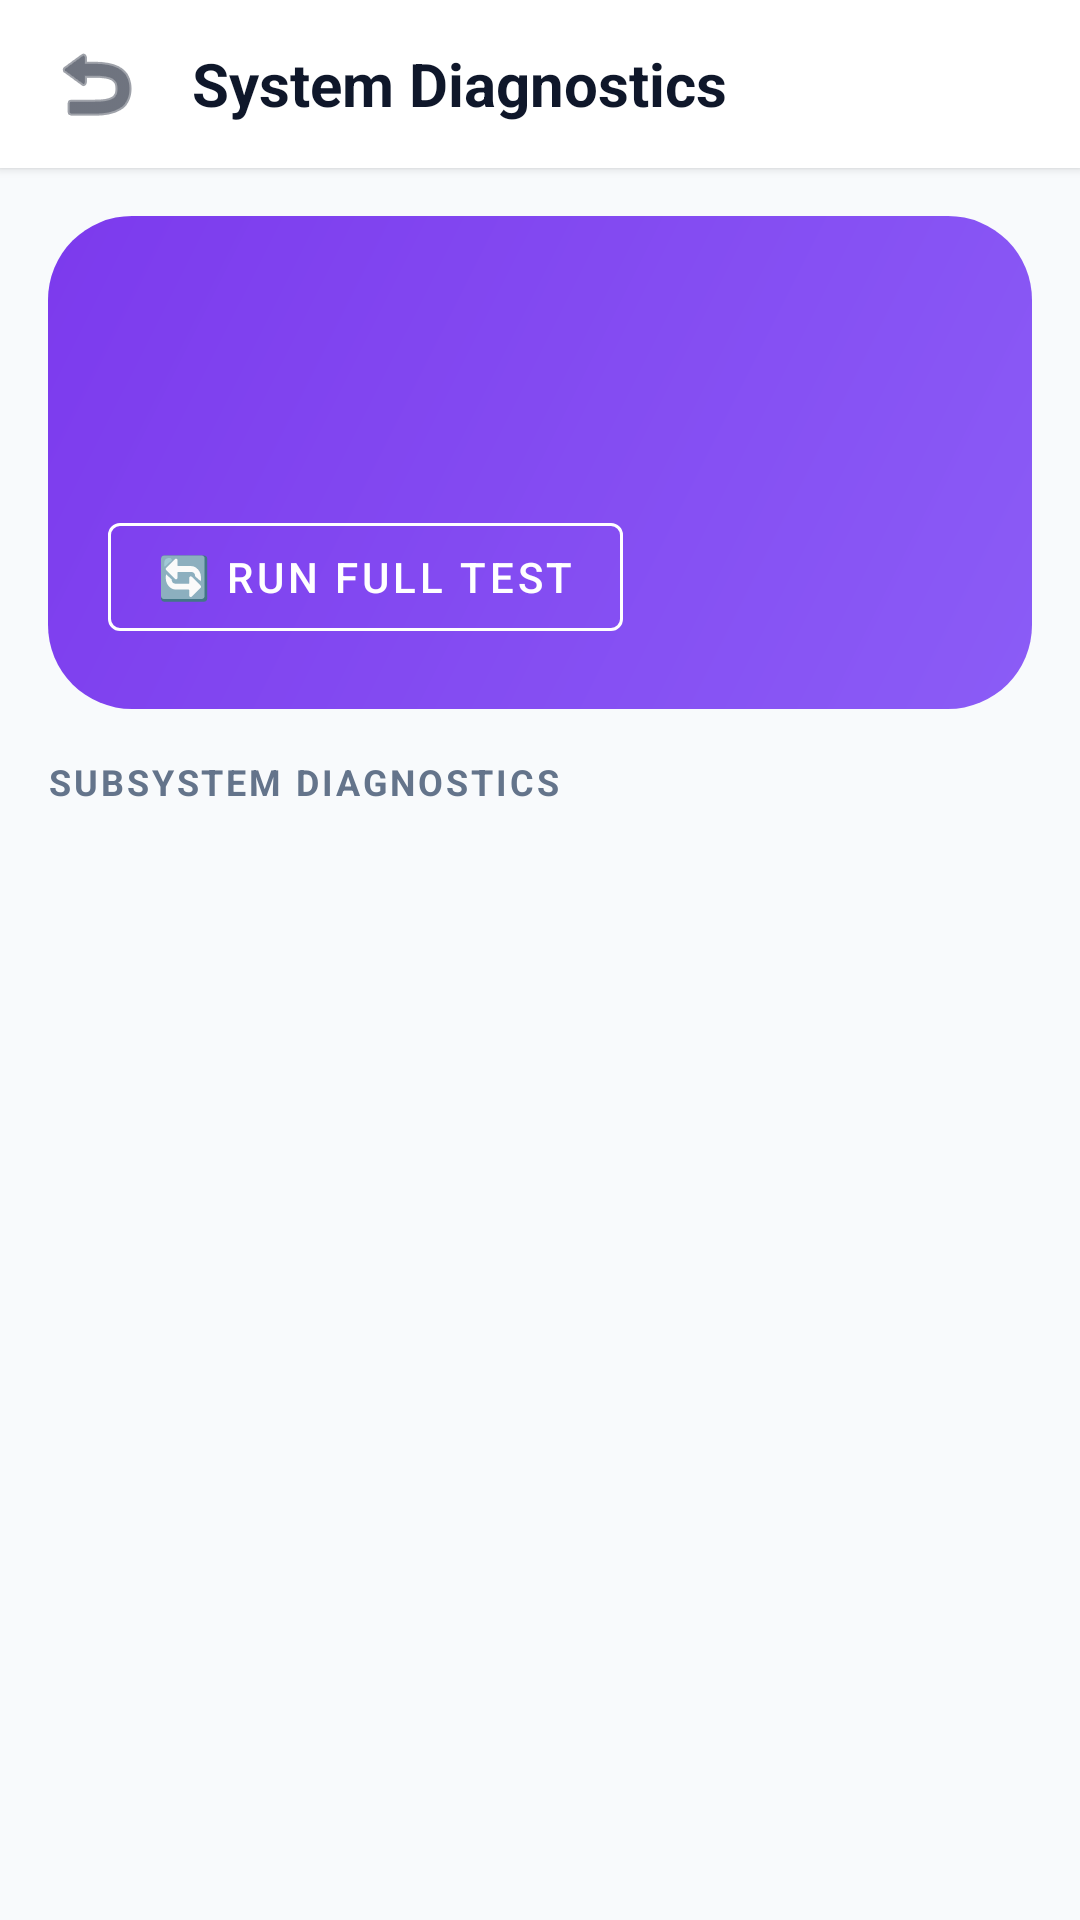

Point at icon controls on the screen. Image size 1080 x 1920, points as point (x, y).
Navigate back: point (97, 84)
